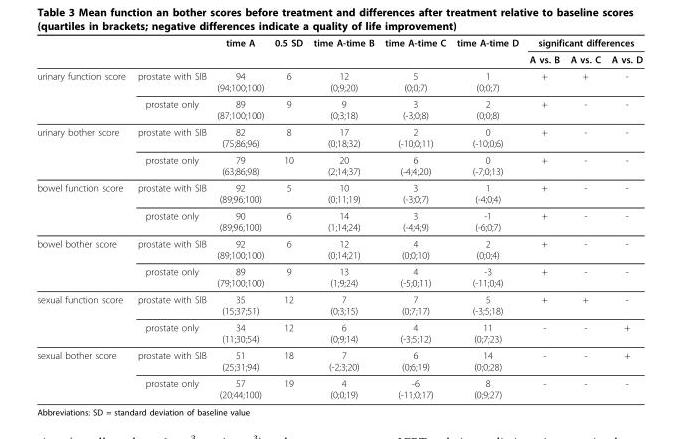table: (36, 36, 641, 399)
table column: (36, 36, 130, 399), (130, 36, 211, 399), (450, 36, 523, 399), (307, 36, 379, 399), (379, 36, 450, 399), (211, 36, 268, 399), (523, 36, 564, 399), (564, 36, 605, 399), (268, 36, 307, 399), (605, 36, 641, 399)
table column header: (36, 36, 641, 67)
table row: (36, 67, 641, 95), (36, 95, 641, 123), (36, 123, 641, 151), (36, 151, 641, 179), (36, 179, 641, 207), (36, 207, 641, 235), (36, 262, 641, 290), (36, 290, 641, 318), (36, 318, 641, 346), (36, 346, 641, 374), (36, 235, 641, 262), (36, 374, 641, 399), (36, 50, 641, 67), (36, 36, 641, 50)
table spanning cell: (36, 67, 130, 123), (36, 123, 130, 179), (36, 179, 130, 235), (36, 290, 130, 346), (36, 235, 130, 290), (36, 346, 130, 399), (450, 36, 523, 67), (307, 36, 379, 67), (379, 36, 450, 67), (211, 36, 268, 67), (523, 36, 641, 50), (268, 36, 307, 67)
